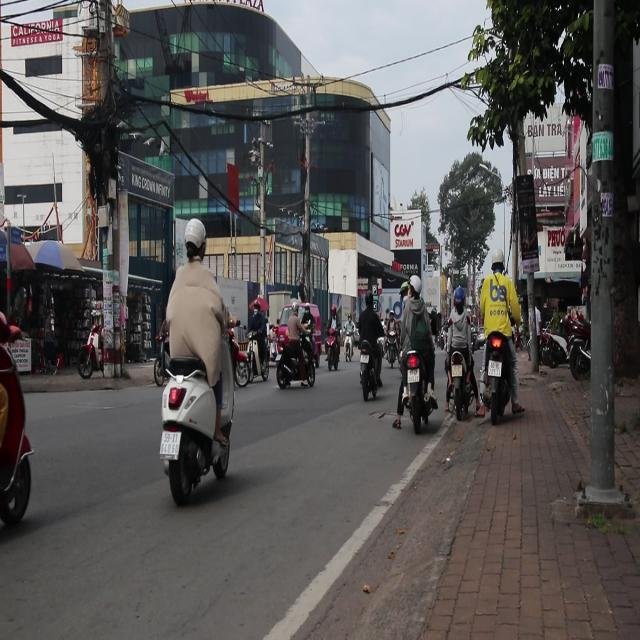motorbike: (158, 350, 234, 505), (481, 332, 519, 418), (401, 348, 433, 429), (275, 344, 321, 389), (564, 310, 593, 381), (354, 336, 380, 400), (538, 314, 568, 369), (447, 348, 469, 423), (74, 328, 103, 379), (248, 335, 266, 393), (322, 324, 342, 368), (344, 330, 354, 362)
